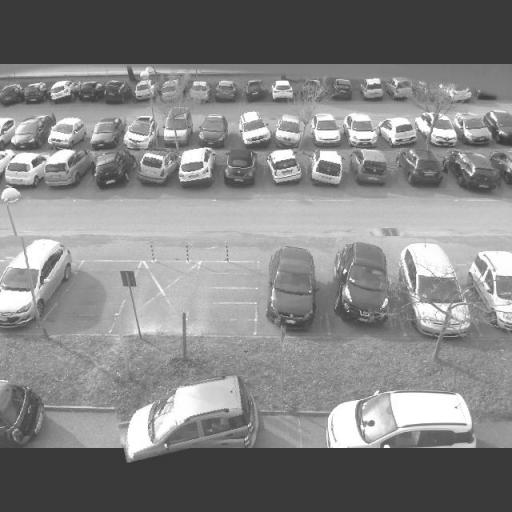busy: (116, 377, 264, 455), (328, 389, 486, 448), (0, 236, 75, 330), (329, 240, 410, 326), (265, 243, 330, 330), (398, 247, 468, 300), (0, 379, 47, 446), (444, 150, 506, 196), (476, 252, 510, 322), (398, 150, 450, 188), (172, 146, 218, 188), (348, 148, 396, 188), (42, 151, 92, 188), (90, 151, 136, 191), (135, 146, 179, 187), (306, 151, 352, 190), (2, 151, 48, 190), (46, 115, 90, 152), (220, 150, 262, 188), (266, 148, 305, 186), (455, 112, 497, 146), (236, 111, 273, 148), (343, 112, 383, 146), (422, 114, 462, 148), (86, 118, 127, 151), (10, 118, 52, 150), (120, 116, 158, 151), (194, 115, 232, 149), (272, 114, 308, 148), (381, 119, 422, 148), (163, 112, 195, 146), (310, 116, 343, 146), (102, 80, 133, 104), (160, 78, 188, 104), (487, 113, 512, 142), (493, 151, 512, 189), (442, 84, 478, 104), (358, 78, 389, 101), (296, 79, 326, 102), (47, 82, 78, 104), (132, 80, 160, 104), (416, 75, 440, 103), (388, 78, 417, 101), (270, 81, 300, 103), (188, 82, 215, 106), (329, 78, 357, 101), (212, 81, 241, 103), (76, 83, 106, 104), (242, 82, 270, 104), (0, 83, 26, 106), (20, 83, 48, 104), (0, 120, 16, 150)
